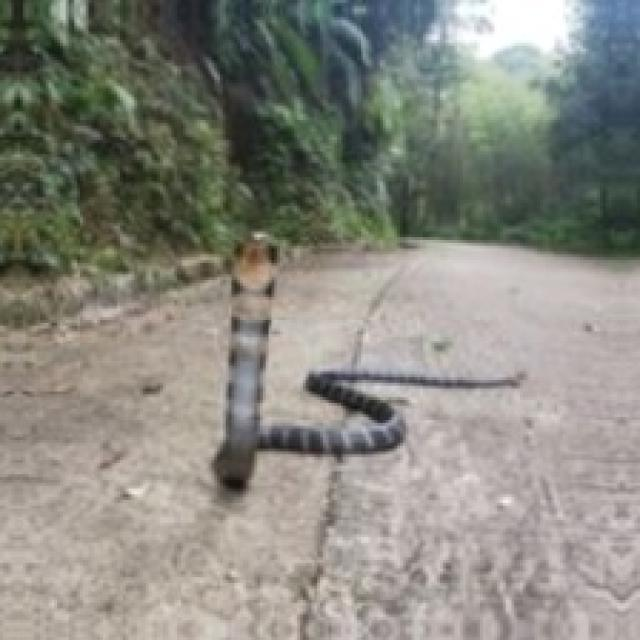king cobra: (211, 231, 520, 489)
